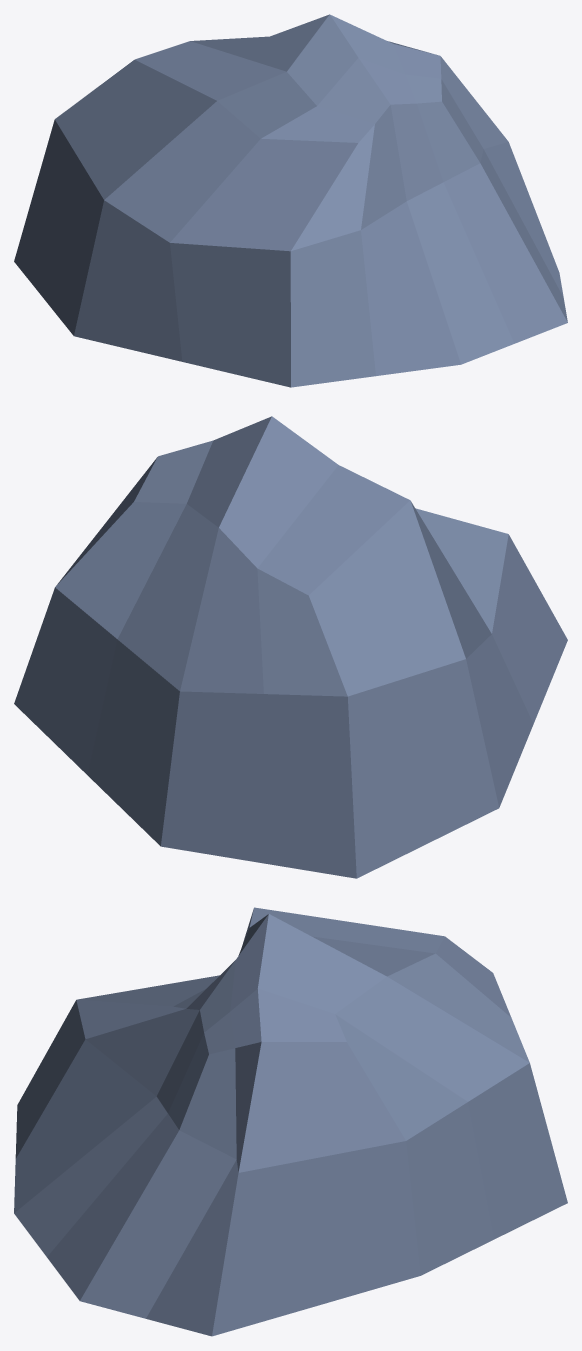
Rendered from stone2.fbx.
The picture shows the model from 3 angles, top to bottom: view 1: azimuth 30°, elevation 25°; view 2: azimuth 150°, elevation 25°; view 3: azimuth 270°, elevation 25°; orthographic projection. The views are drawn at different scales.
Visible parts, largest first — view 1: Cube; view 2: Cube; view 3: Cube.
Boxes of the visible parts, x1=… form: Cube: x1=14, y1=14, x2=567, y2=387; Cube: x1=14, y1=416, x2=567, y2=878; Cube: x1=14, y1=907, x2=567, y2=1336.
Size of the model in its own units: 353 by 234 by 357.
